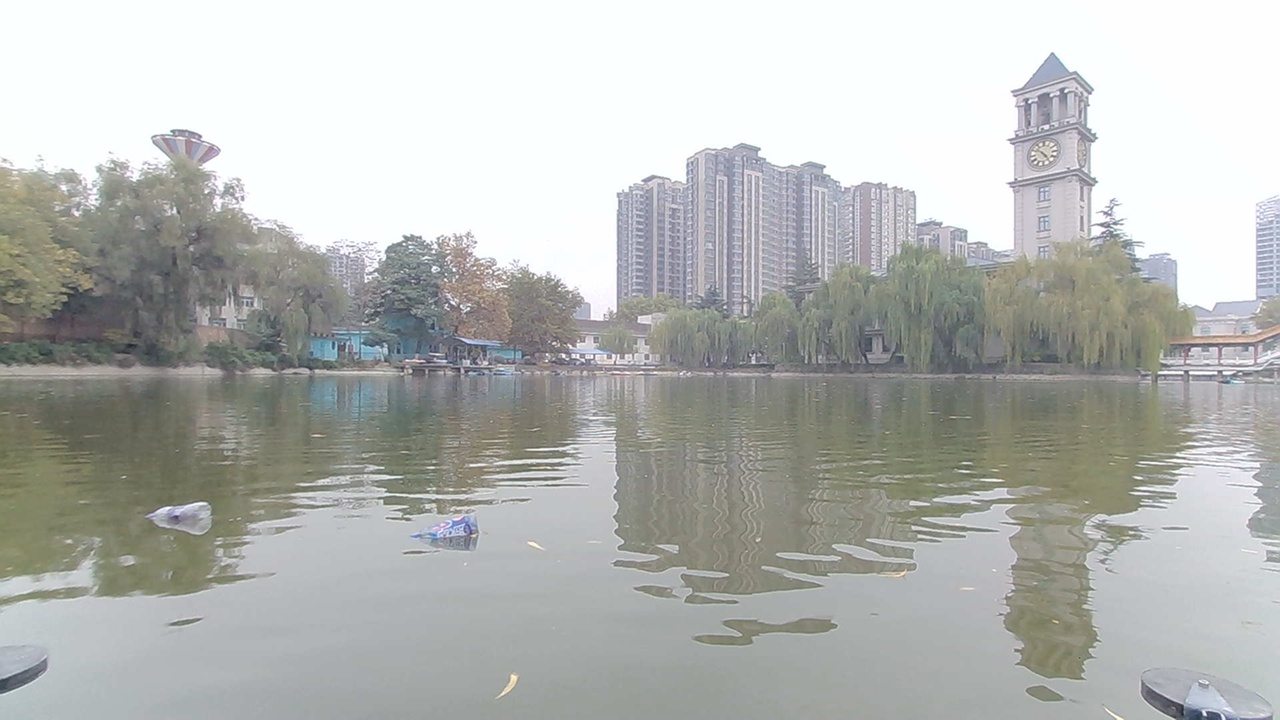bottle: (143, 481, 231, 547), (409, 496, 500, 554)
